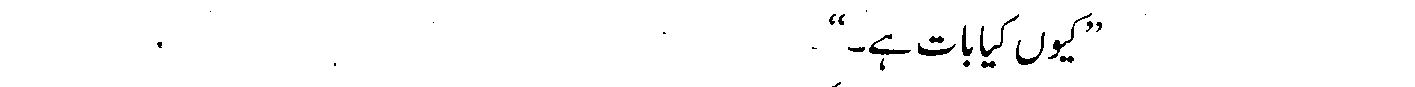bay_shosha: (960, 44, 974, 69)
